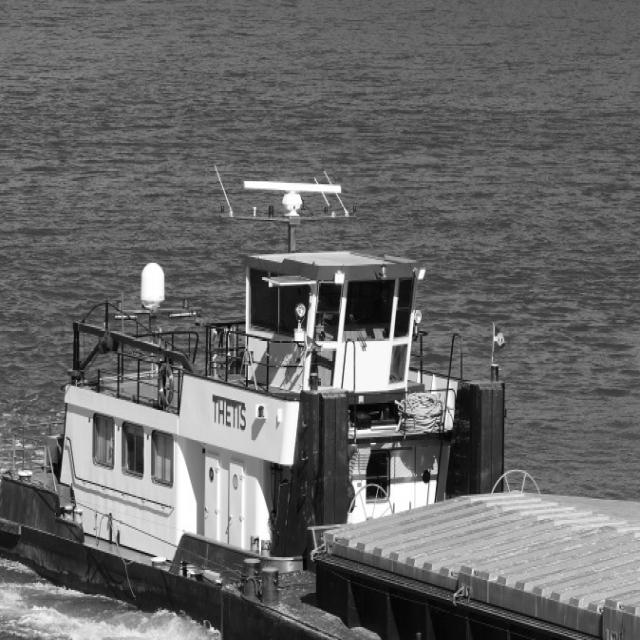tugboat: (1, 168, 509, 640)
